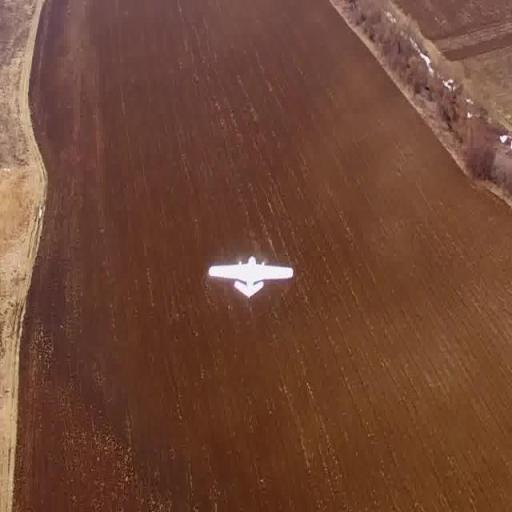uav: (206, 250, 295, 312)
